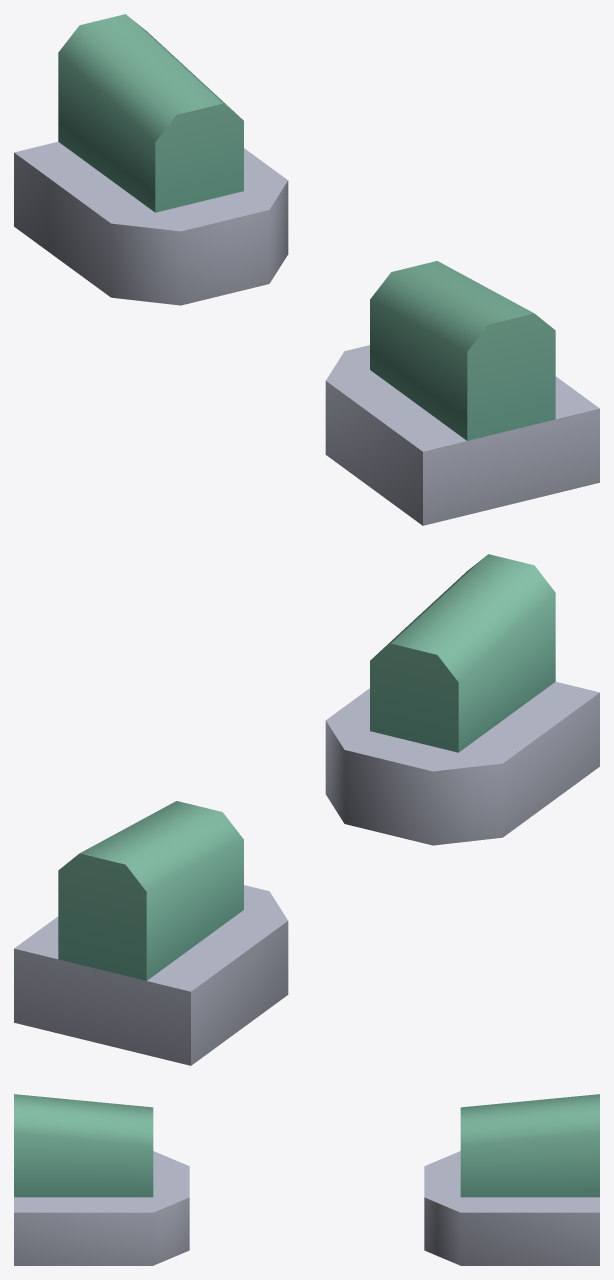
File: hedge-gate.glb
3 views of the same model, one above another, from view 1: azimuth 30°, elevation 25°; view 2: azimuth 150°, elevation 25°; view 3: azimuth 270°, elevation 25° (orthographic). The views are drawn at different scales.
Visible parts, largest first — view 1: hedge-gate; view 2: hedge-gate; view 3: hedge-gate.
Boxes of the visible parts, x1,y1,x2,y2 form: hedge-gate: (14,14,599,525); hedge-gate: (14,554,599,1065); hedge-gate: (14,1094,599,1265).
Bounding box in the file's own units: 0.25 × 0.25 × 1.
